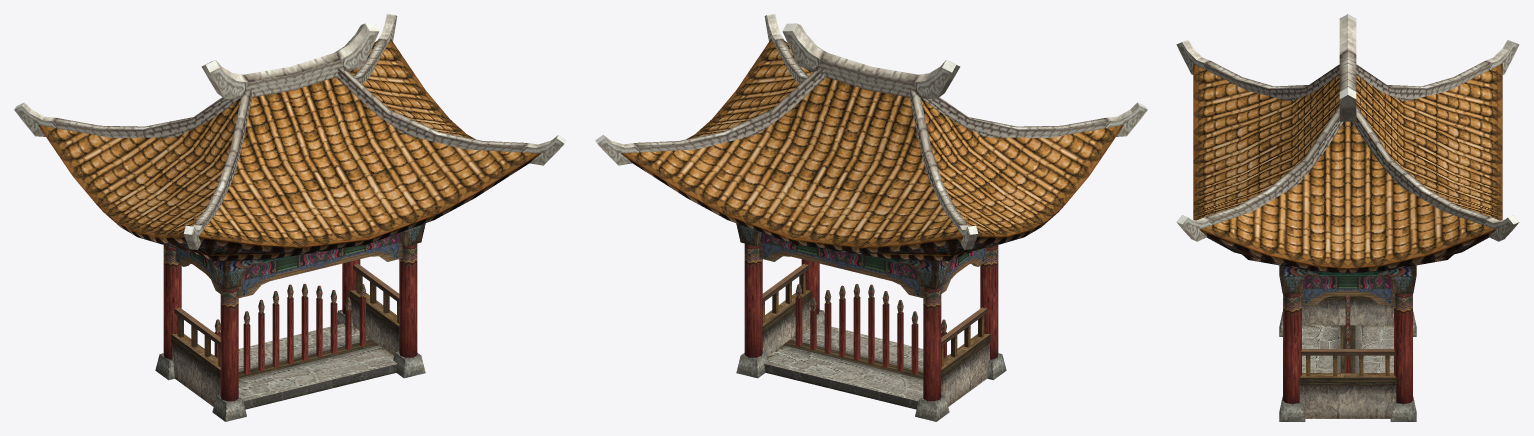
Rendered from otherworld_02_door_01.fbx.
3 renders of one model, left to right at view 1: azimuth 30°, elevation 25°; view 2: azimuth 150°, elevation 25°; view 3: azimuth 270°, elevation 25°, orthographic. The views are drawn at different scales.
Parts seen in each view (by area): view 1: otherworld_02_door_01; view 2: otherworld_02_door_01; view 3: otherworld_02_door_01.
Part boxes in pixels (x1,y1,x2,y2): otherworld_02_door_01: (14,14,566,421); otherworld_02_door_01: (595,14,1147,421); otherworld_02_door_01: (1176,14,1519,421).
Bounding box in the file's own units: 10.41 × 8.57 × 8.26.
